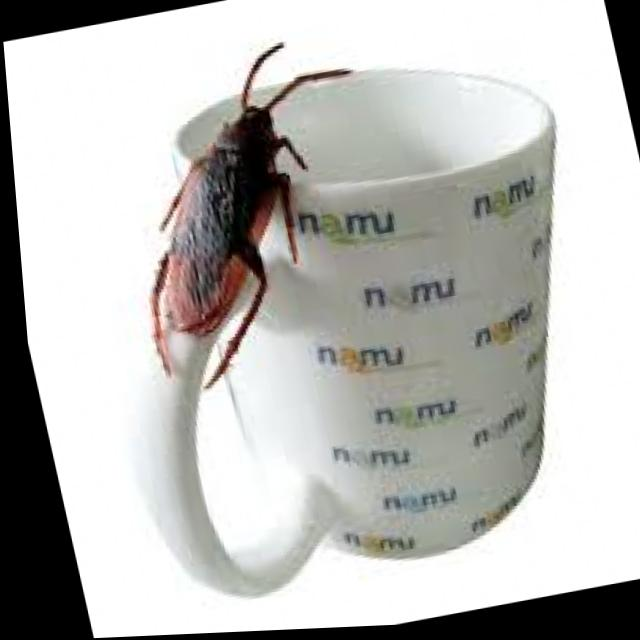Cockroach: (71, 19, 397, 417)
